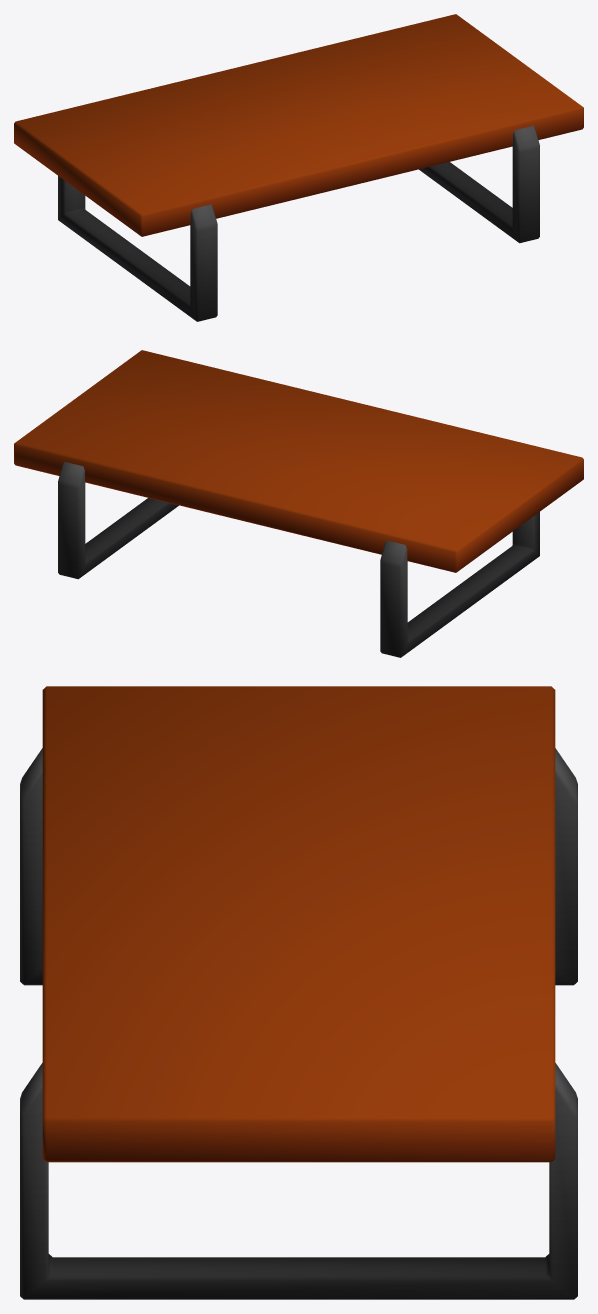
Rendered from SM_Coffe_Table_2.fbx.
The picture shows the model from 3 angles, top to bottom: view 1: azimuth 30°, elevation 25°; view 2: azimuth 150°, elevation 25°; view 3: azimuth 270°, elevation 25°; orthographic projection. The views are drawn at different scales.
Visible parts, largest first — view 1: SM_Coffe_Table_2; view 2: SM_Coffe_Table_2; view 3: SM_Coffe_Table_2.
Boxes of the visible parts, left/top/right/bottom form: SM_Coffe_Table_2: left=14, top=14, right=583, bottom=321; SM_Coffe_Table_2: left=14, top=350, right=583, bottom=657; SM_Coffe_Table_2: left=20, top=686, right=577, bottom=1299.
Bounding box in the file's own units: 200 × 50 × 109.
Materials: 1 (1 with a texture image).
